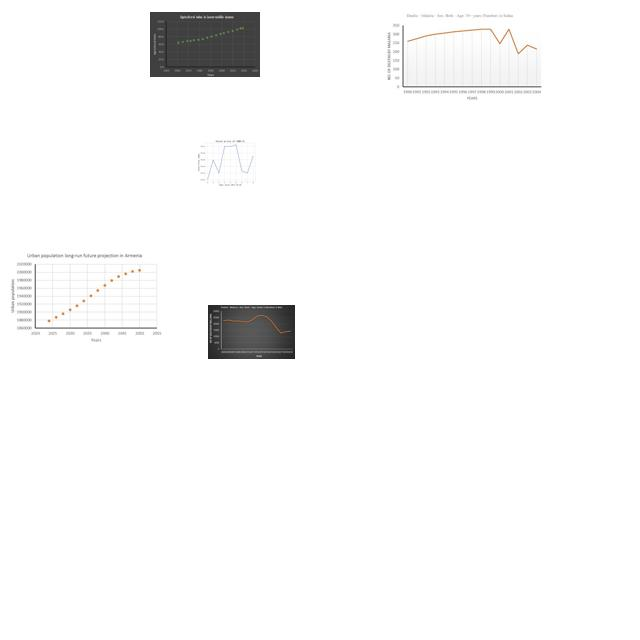Graph: (2, 251, 165, 345), (383, 12, 543, 103), (150, 12, 260, 77), (208, 305, 295, 359), (196, 137, 263, 187)
